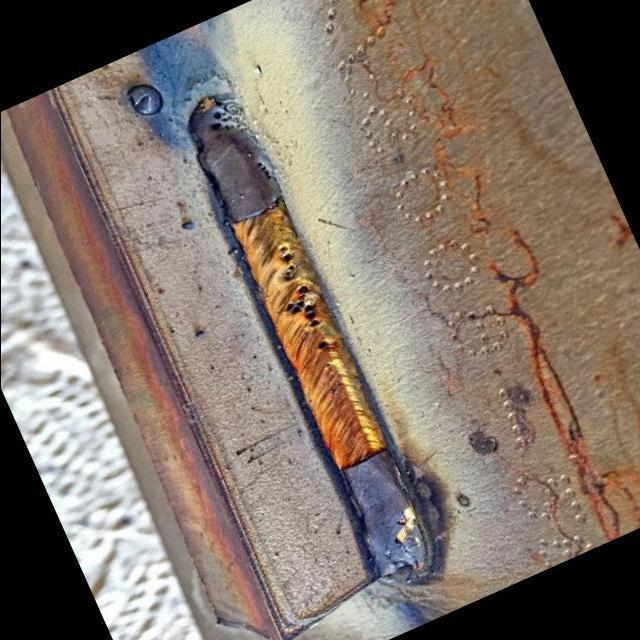defect: (277, 281, 322, 334), (275, 245, 300, 284), (206, 108, 245, 133), (253, 155, 278, 183), (314, 334, 331, 354)
